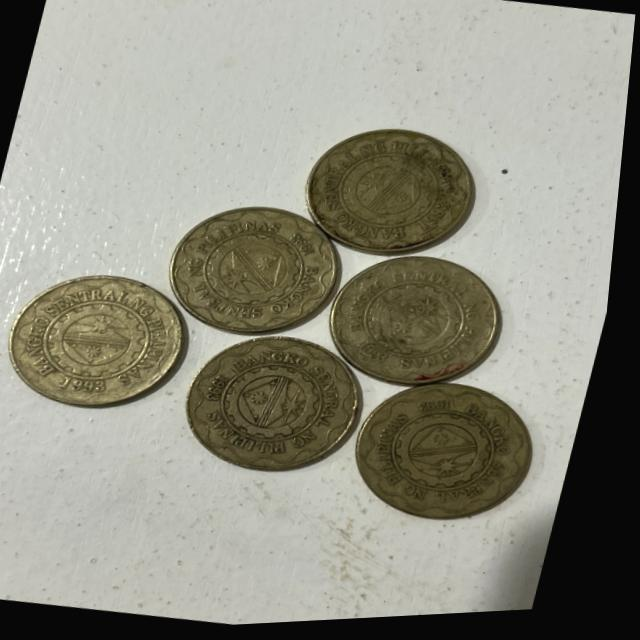5_Old_Back: (172, 323, 385, 489), (355, 378, 554, 542), (165, 195, 368, 347), (292, 117, 491, 271), (332, 245, 520, 403), (16, 267, 207, 422)
